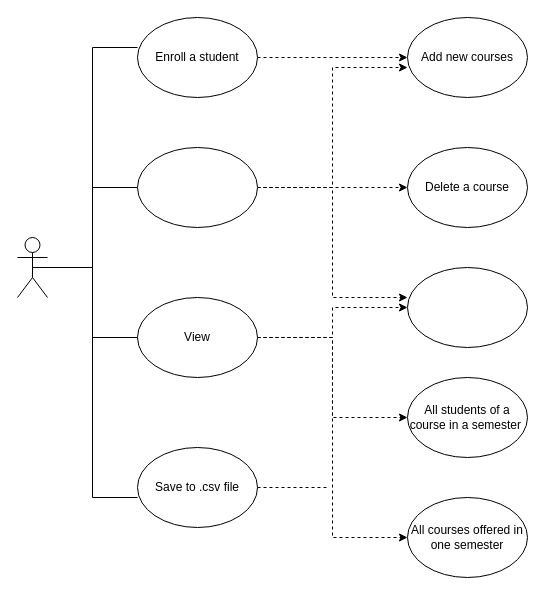
Image size: 545x595. Some labels were removed from this diagram. The shapes that lost their labels are listed below. From the top down, each one's centre as x and y in pixels, then its label:
(197,187): Update an enrolment
(32,267): User
(467,307): All courses of a student in a semester
